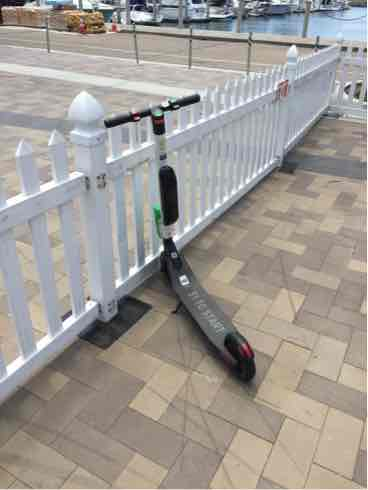scooter: (105, 84, 268, 395)
